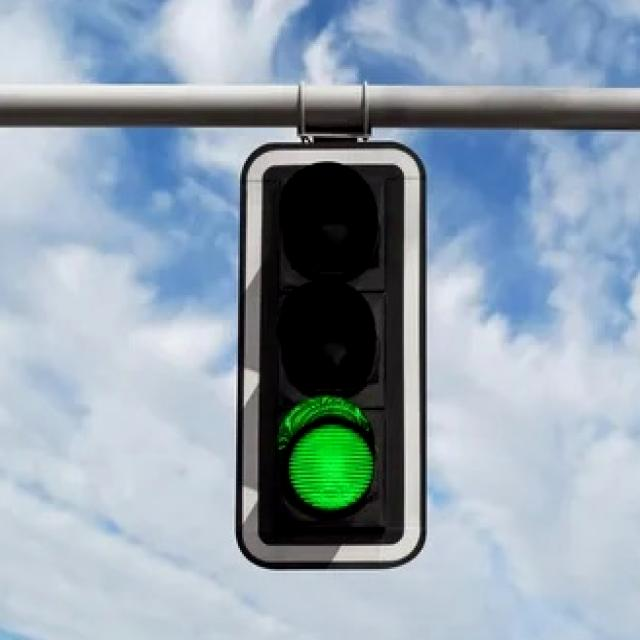yesil: (258, 162, 400, 543)
